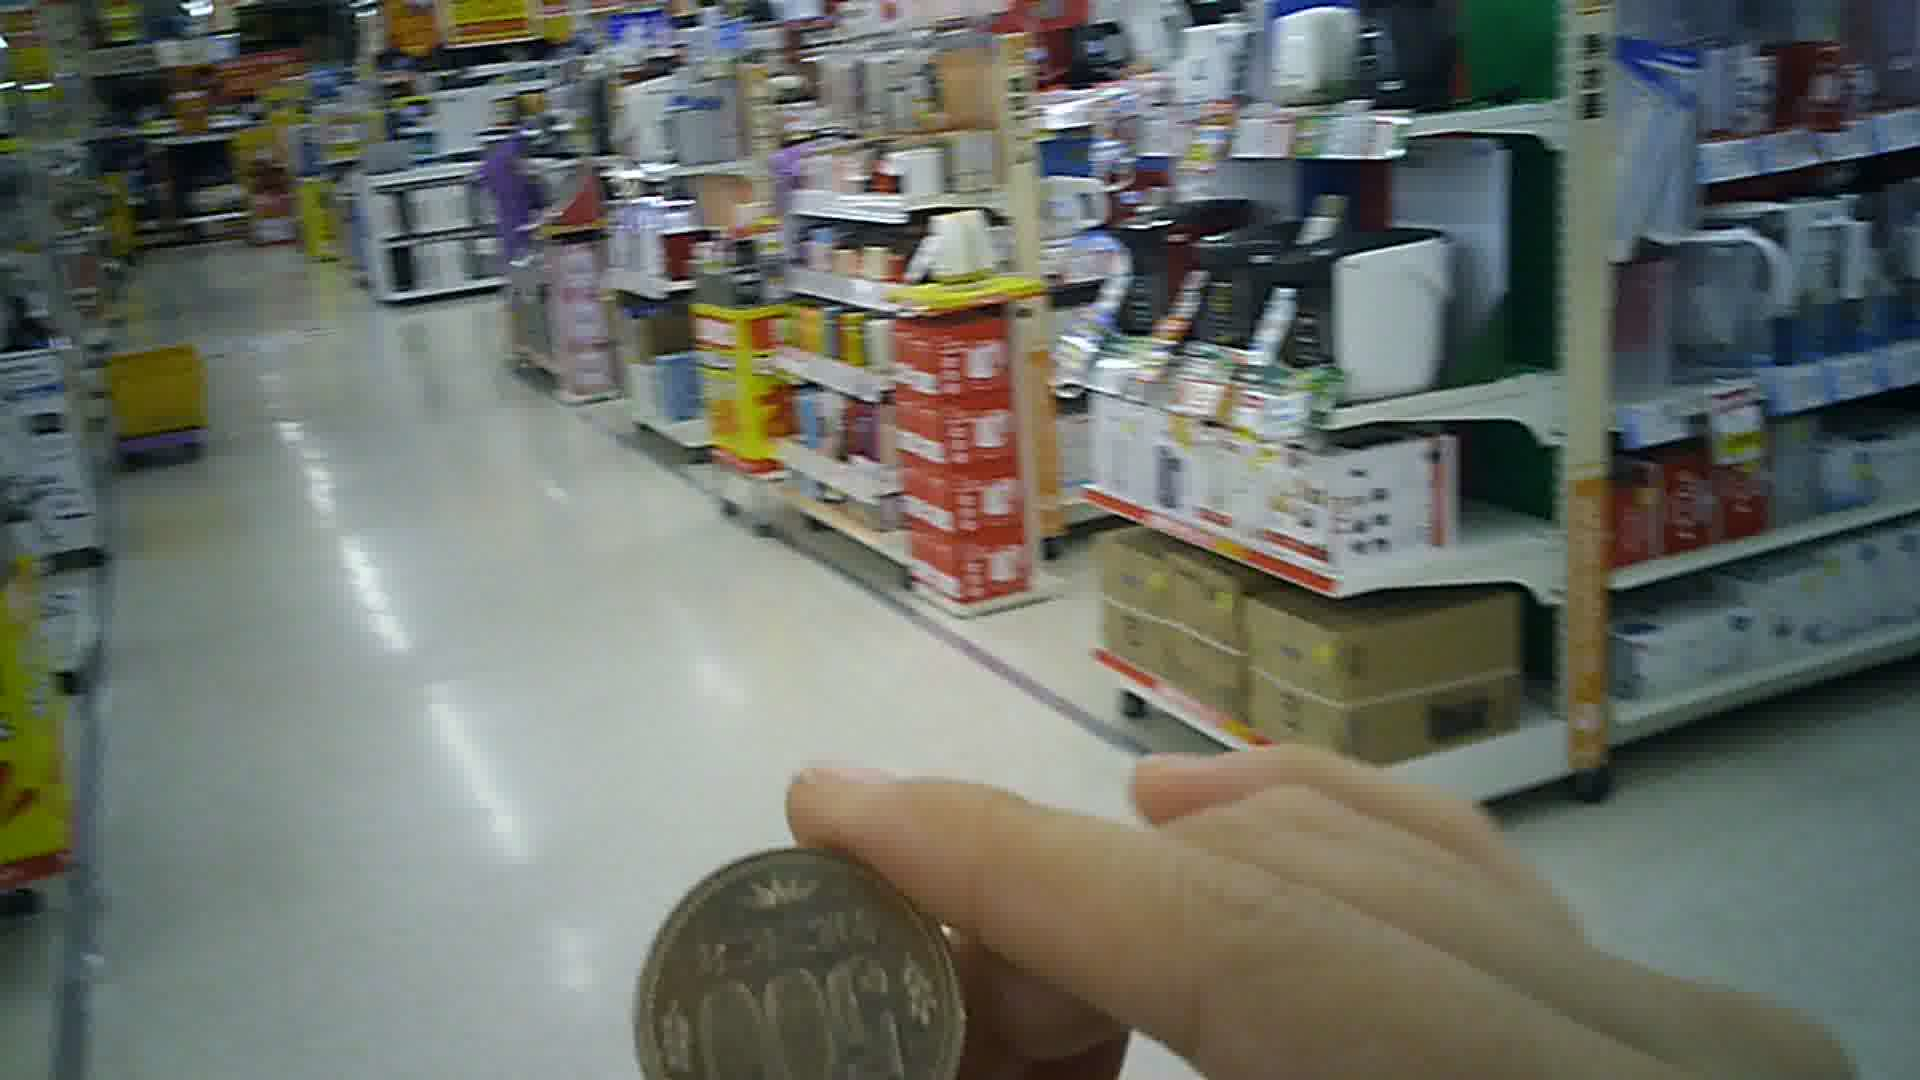500 Yen: (624, 837, 967, 1079)
